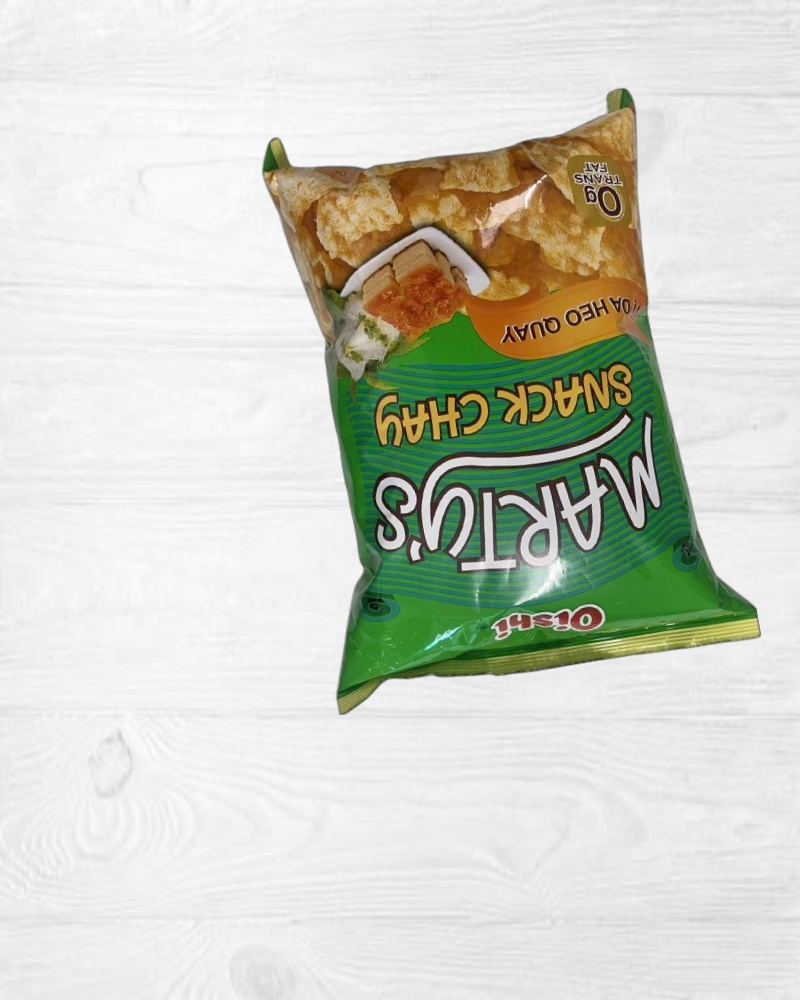Snack chay: (260, 72, 761, 712)
